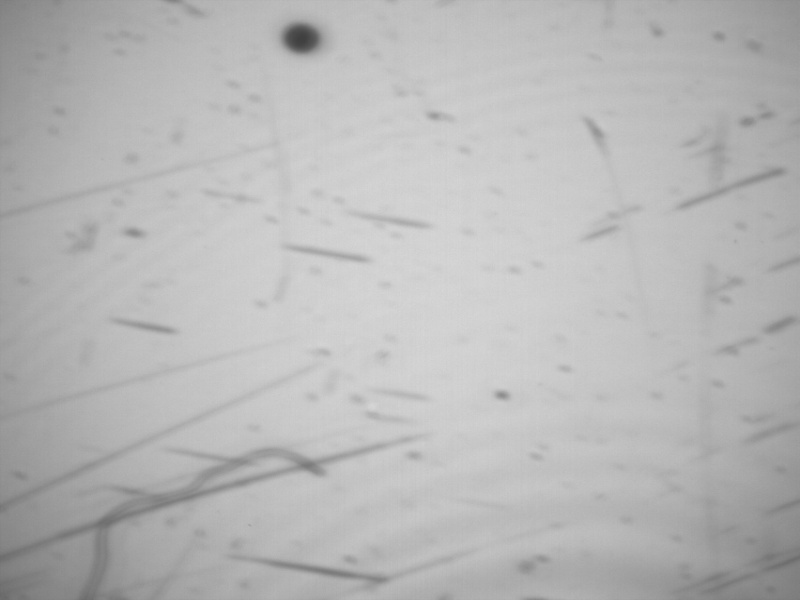bead: (281, 21, 322, 56)
fiber: (67, 441, 329, 600)
